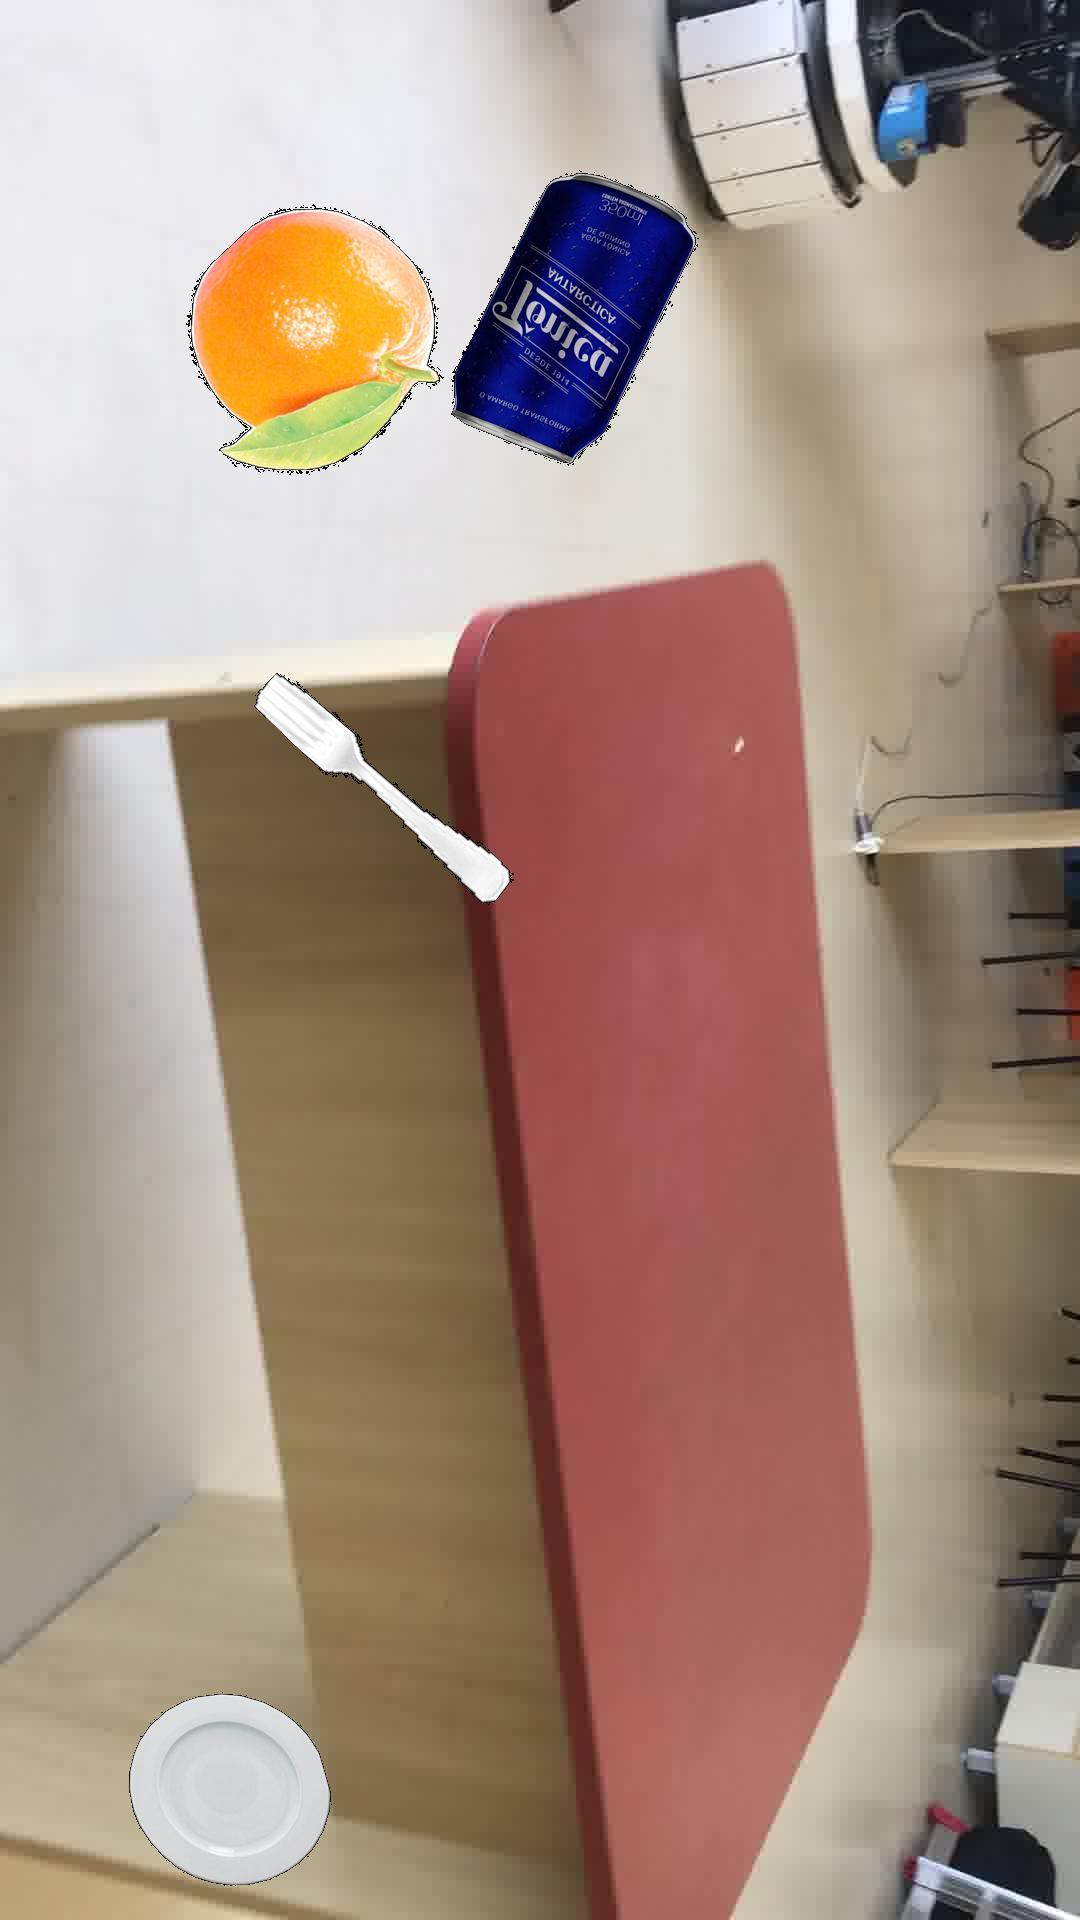fork: (252, 671, 513, 902)
orange: (186, 203, 443, 472)
plate: (128, 1692, 330, 1884)
tonic: (450, 171, 695, 463)
